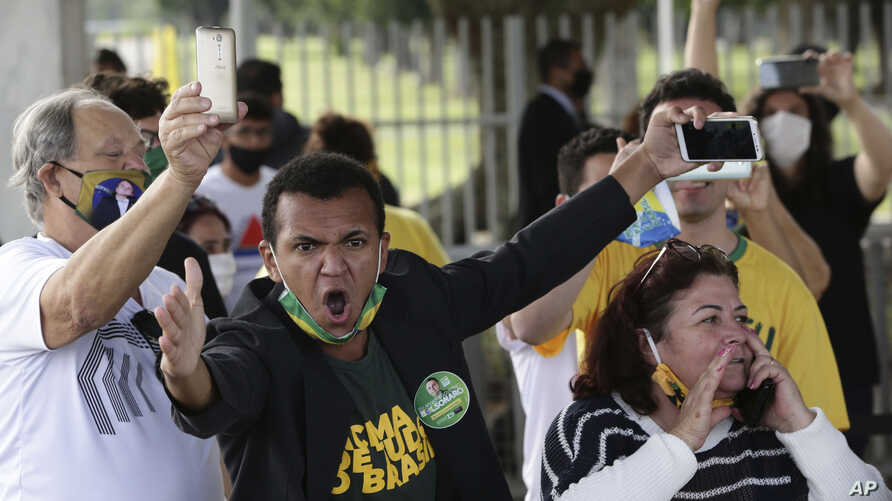mask_weared_incorrect: (259, 179, 393, 352), (34, 122, 164, 240), (634, 291, 756, 415)
